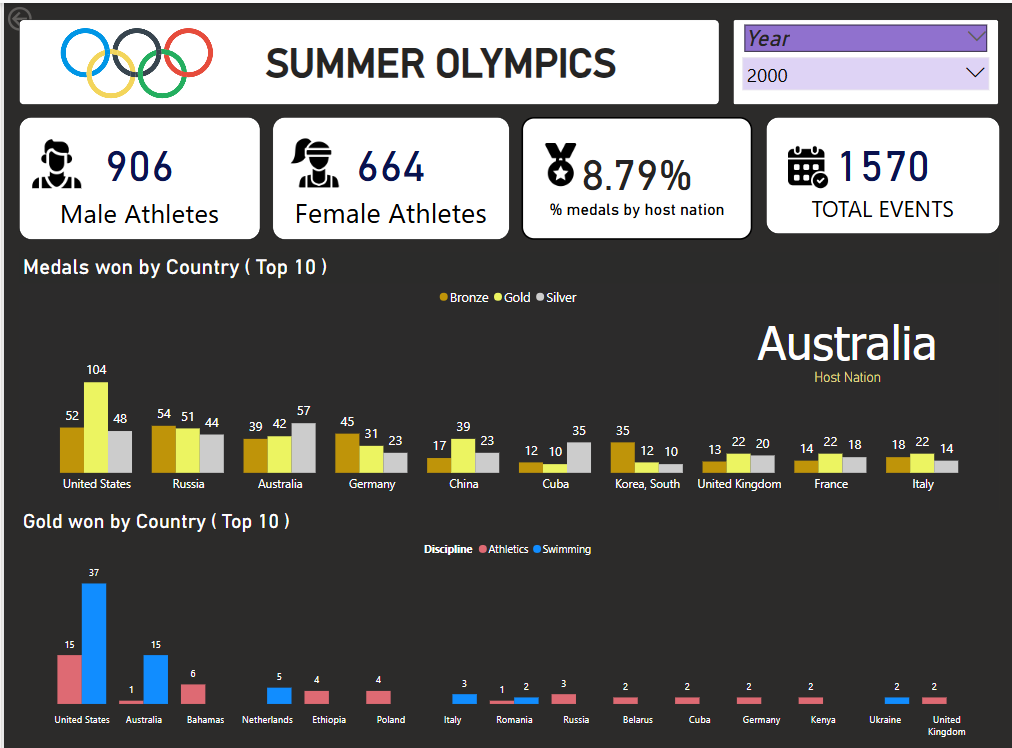

What the dashboard file says about the page in this screenshot:
{"tool":"powerbi","page":{"name":"HOME","canvas":[1280,950],"ordinal":0},"visuals":[{"type":"slicer","fields":{"Values":["Summer-Olympic-medals-1976-to-2008.Year"]},"box":[922.2,20.9,335.9,108.2],"z":0},{"type":"actionButton","box":[0,0,100,40],"z":1000},{"type":"clusteredColumnChart","title":"Medals won by Country ( Top 10 )","fields":{"Y":["dim medal.Medals won"],"Series":["dim medal.Medal"],"Category":["Summer-Olympic-medals-1976-to-2008.Country"]},"box":[19,315,1241,326.4],"z":2000},{"type":"textbox","box":[19,20.9,886.1,108.2],"z":3000},{"type":"image","box":[66.4,20.9,203,110.1],"z":4000},{"type":"card","fields":{"Values":["Summer-Olympic-medals-1976-to-2008.PCT WIN by HOST COUNTRY"]},"box":[654.6,144.2,292.2,155.6],"z":5000},{"type":"card","fields":{"Values":["Summer-Olympic-medals-1976-to-2008.Men"]},"box":[19,144.2,305.5,155.6],"z":6000},{"type":"card","fields":{"Values":["Summer-Olympic-medals-1976-to-2008.Female Athletes"]},"box":[339.7,144.2,299.8,155.6],"z":7000},{"type":"card","fields":{"Values":["Summer-Olympic-medals-1976-to-2008.NUMBER OF EVENTS"]},"box":[963.9,144.2,296,148],"z":8000},{"type":"card","fields":{"Values":["Min(Summer-Olympic-medals-1976-to-2008.Host Country)"]},"box":[874,378,384,116],"z":9000},{"type":"clusteredColumnChart","title":"Gold won by Country ( Top 10 )","fields":{"Category":["Summer-Olympic-medals-1976-to-2008.Country"],"Y":["dim medal.Medals won"],"Series":["Summer-Olympic-medals-1976-to-2008.Discipline"]},"box":[19,641.4,1241,296],"z":10000},{"type":"image","box":[30.4,167,72.1,72.1],"z":11000},{"type":"image","box":[356.7,161.3,72.1,81.6],"z":12000},{"type":"image","box":[667.9,161.3,72.1,85.4],"z":13000},{"type":"image","box":[982.9,172.7,68.3,70.2],"z":14000}]}

Visuals, with their boxes in screenshot pixels (x1, y1, x2, y2), scaled from the page's 1280x950 canvas onto the 1012x748 screenshot:
slicer - Summer-Olympic-medals-1976-to-2008.Year: [left=729, top=16, right=995, bottom=102]
actionButton: [left=0, top=0, right=79, bottom=31]
"Medals won by Country ( Top 10 )" clusteredColumnChart: [left=15, top=248, right=996, bottom=505]
textbox: [left=15, top=16, right=716, bottom=102]
image: [left=52, top=16, right=213, bottom=103]
card - Summer-Olympic-medals-1976-to-2008.PCT WIN by HOST COUNTRY: [left=518, top=114, right=749, bottom=236]
card - Summer-Olympic-medals-1976-to-2008.Men: [left=15, top=114, right=257, bottom=236]
card - Summer-Olympic-medals-1976-to-2008.Female Athletes: [left=269, top=114, right=506, bottom=236]
card - Summer-Olympic-medals-1976-to-2008.NUMBER OF EVENTS: [left=762, top=114, right=996, bottom=230]
card - Min(Summer-Olympic-medals-1976-to-2008.Host Country): [left=691, top=298, right=995, bottom=389]
"Gold won by Country ( Top 10 )" clusteredColumnChart: [left=15, top=505, right=996, bottom=738]
image: [left=24, top=131, right=81, bottom=188]
image: [left=282, top=127, right=339, bottom=191]
image: [left=528, top=127, right=585, bottom=194]
image: [left=777, top=136, right=831, bottom=191]
